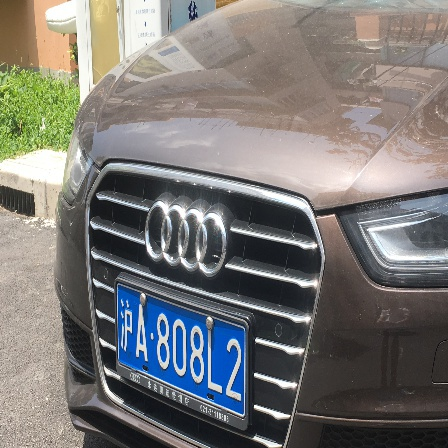plate: (110, 281, 255, 418)
